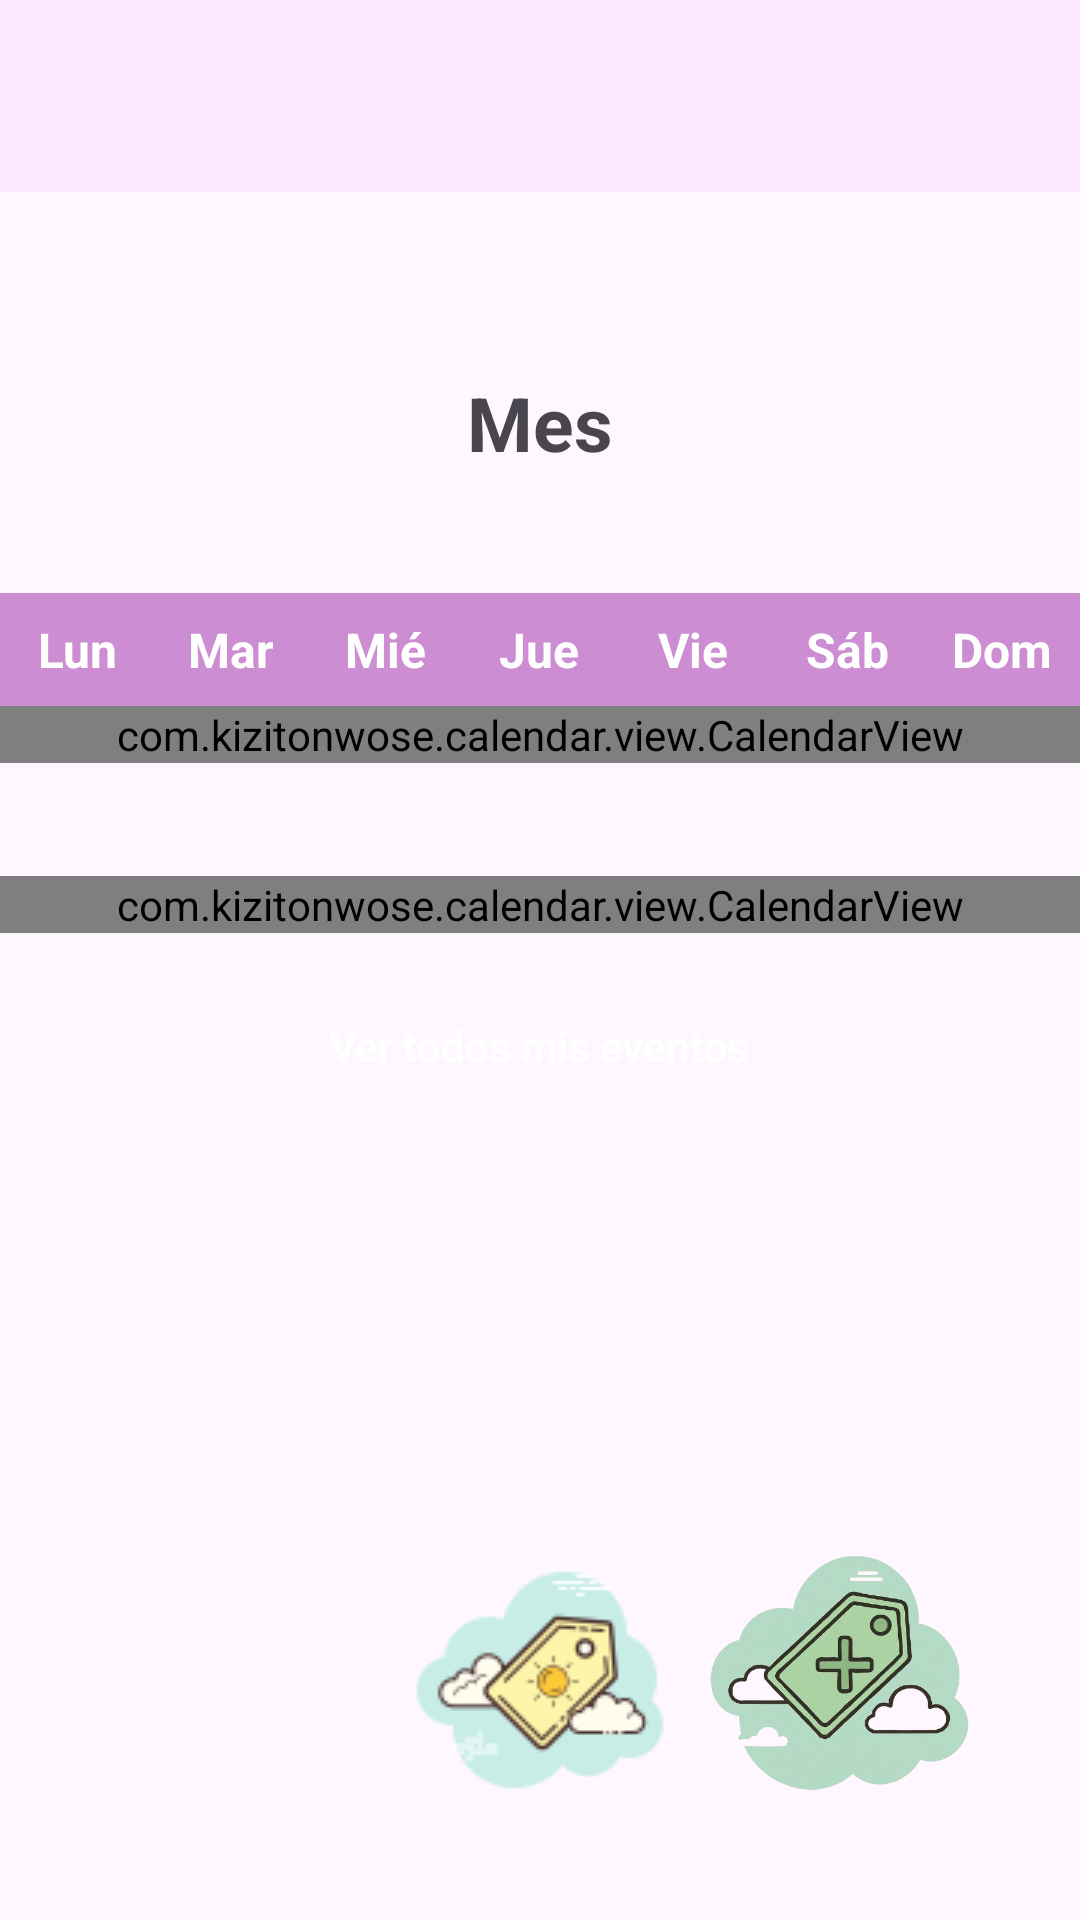

Screen size 1080w x 1920h. Icon name, then its center in pixels as [x,y]:
etiqueta tag: [540,1680]
